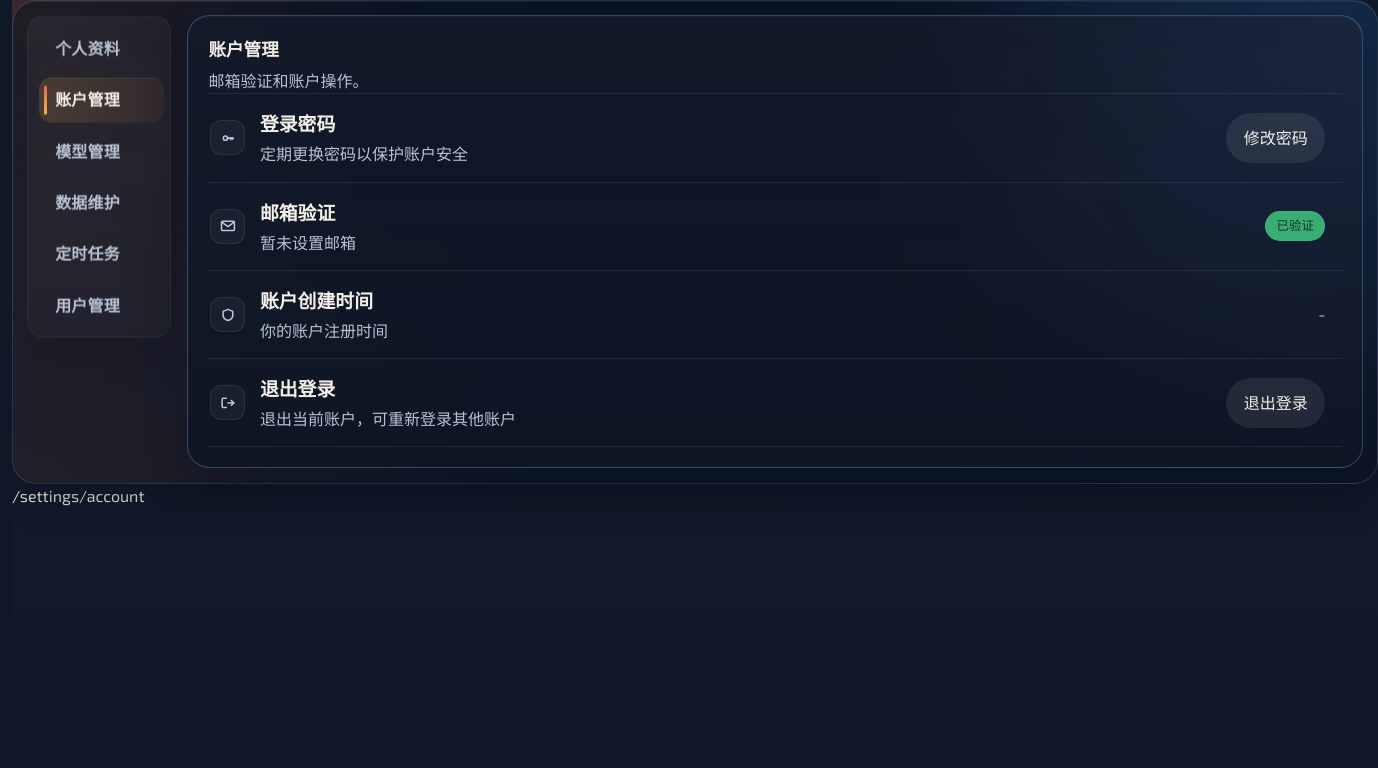
Scenario: SettingsPage model management view switch › renders account management sections and can expand password form
This screenshot has width=1378, height=768.
Check: the heading "账户管理" is shown, box [208, 38, 279, 60]
Check: the heading "登录密码" is shown, box [260, 112, 335, 135]
Click the button "修改密码": (1276, 138) [1226, 113, 1325, 163]
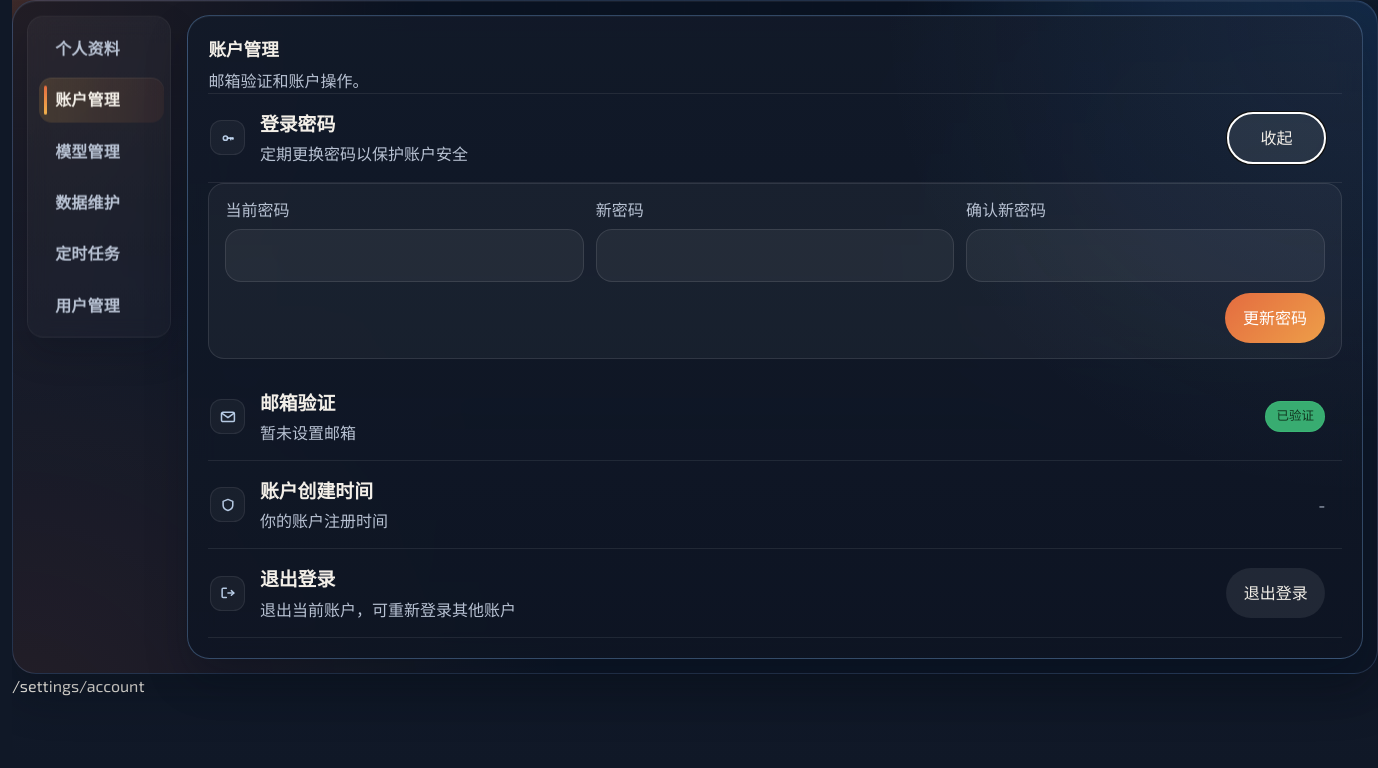
Check: the button "退出登录" is shown, box [1226, 568, 1325, 618]
Check: the password field labelled "当前密码" is shown, box [225, 229, 584, 282]
Check: the password field labelled "确认新密码" is shown, box [966, 229, 1325, 282]
